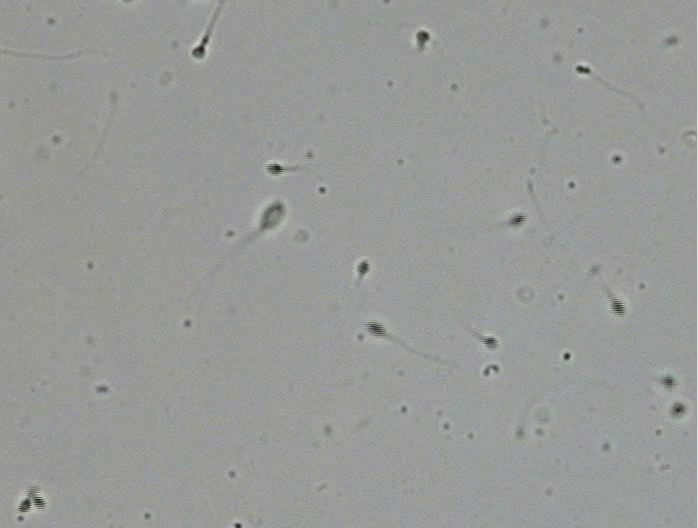S: (259, 203, 285, 229), (363, 321, 387, 338), (610, 295, 626, 318), (416, 30, 430, 48), (16, 498, 32, 513), (32, 495, 47, 511), (266, 162, 283, 176), (356, 259, 370, 275), (482, 336, 499, 349), (509, 213, 525, 226), (671, 402, 685, 416), (192, 44, 205, 59), (661, 375, 675, 388), (576, 65, 591, 75)
